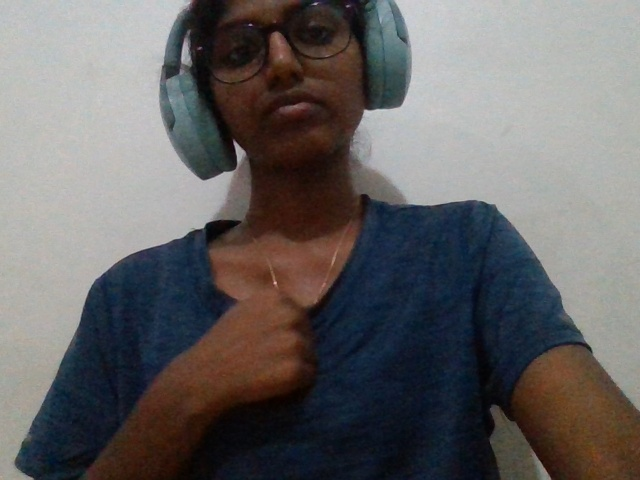Sorry: (126, 264, 342, 447)
